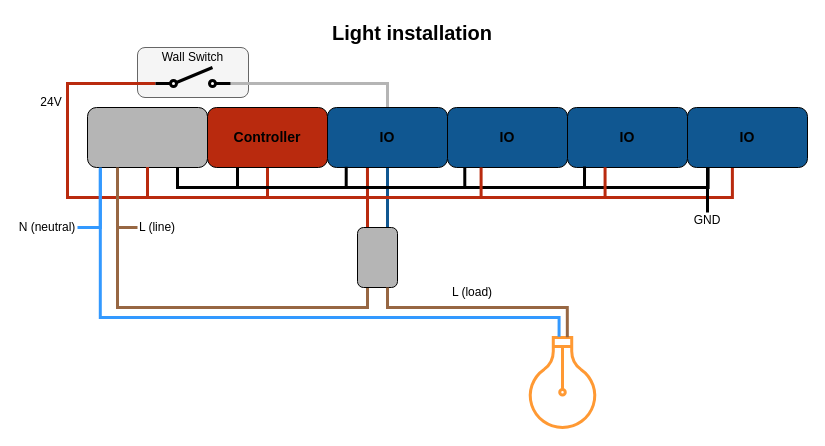
Image size: 825x446. Some labels were removed from this diagram. Here are the shapes that lost their labels. From the top down, the centre of each, then its label:
the point at 147,137: Powersuplly
the point at 377,257: Relay
